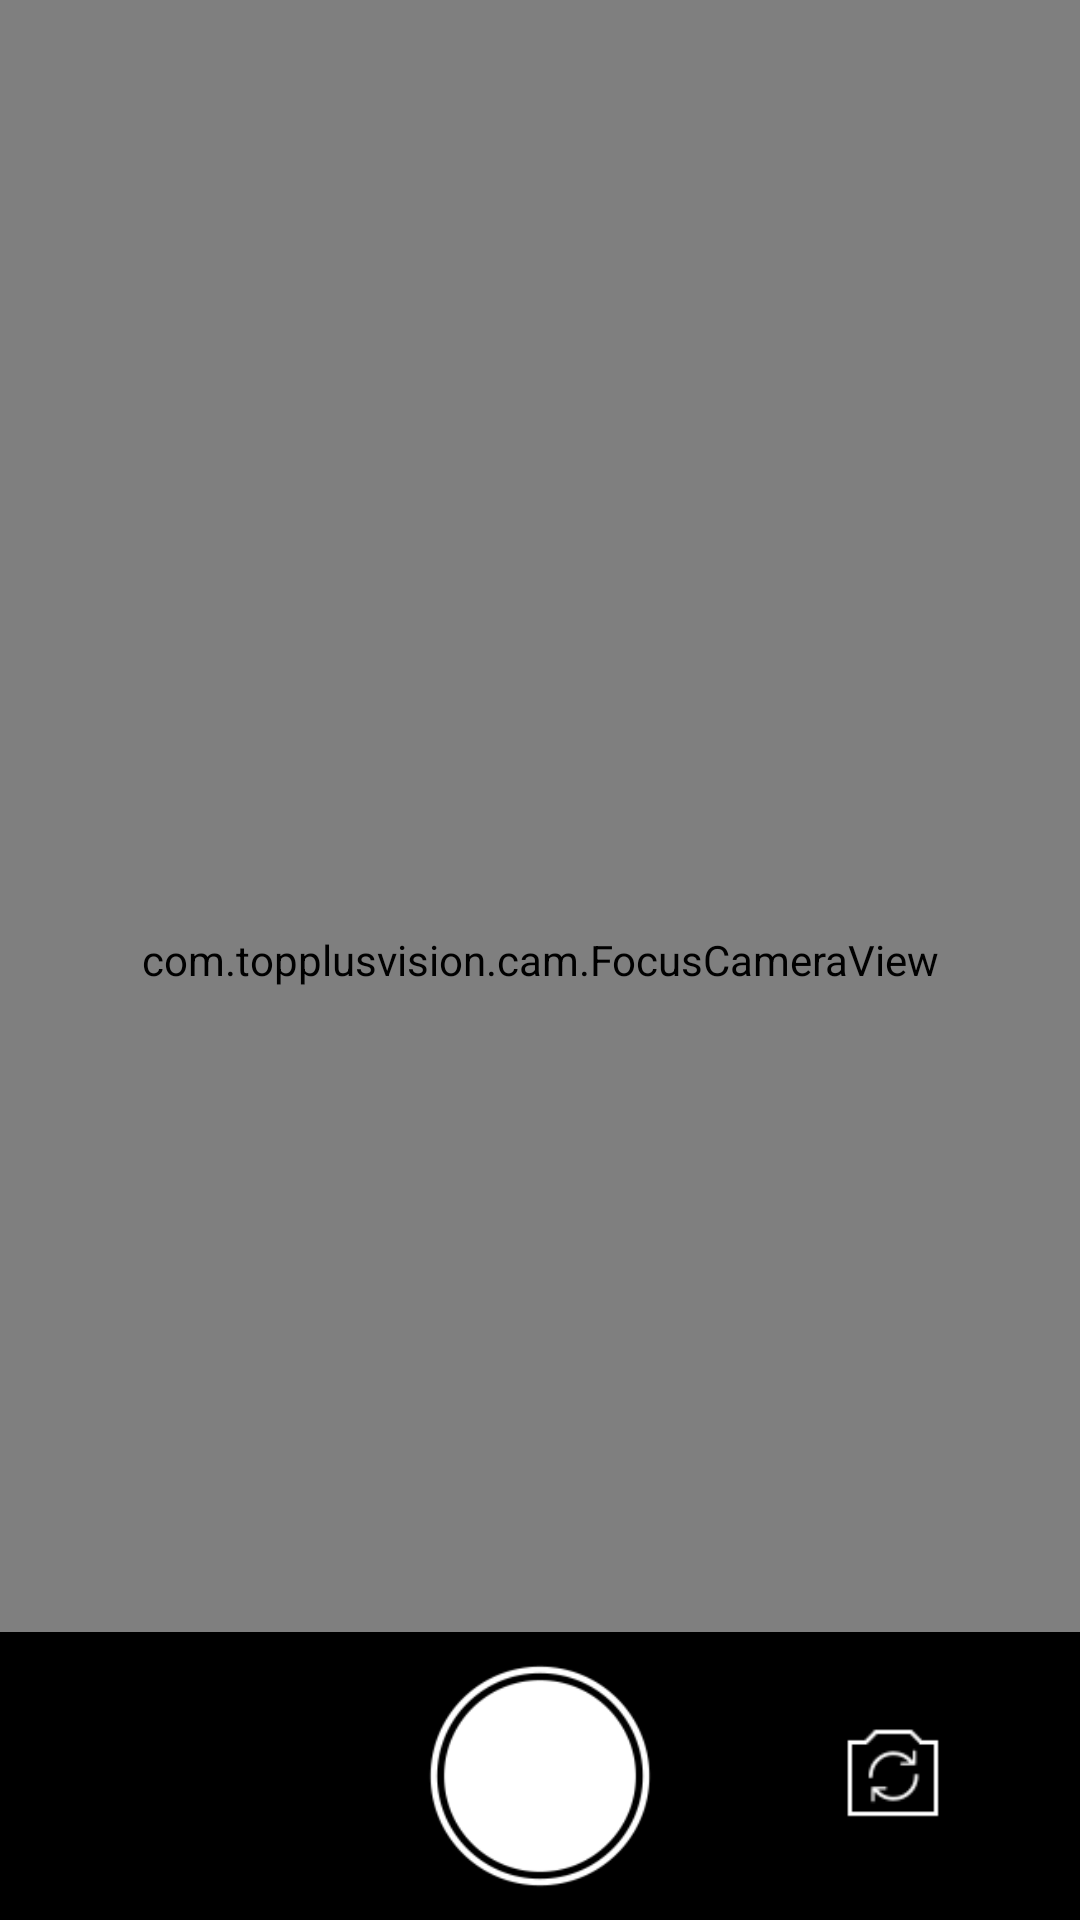

Named icons in this screenshot (1080px x 1920px) and their centers, point (x, y):
camera back: point (893, 1773)
camera shutter: point (540, 1776)
